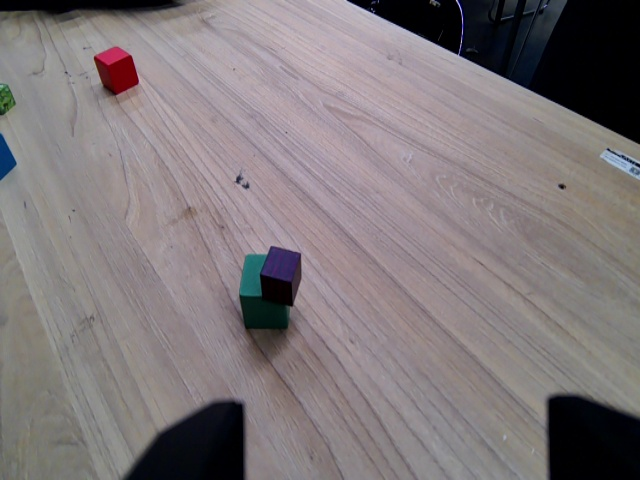brick: (259, 244, 306, 307)
